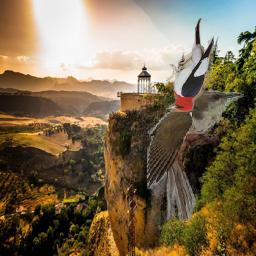Cuckoo: (148, 89, 245, 221)
Woodpecker: (166, 18, 214, 112)
